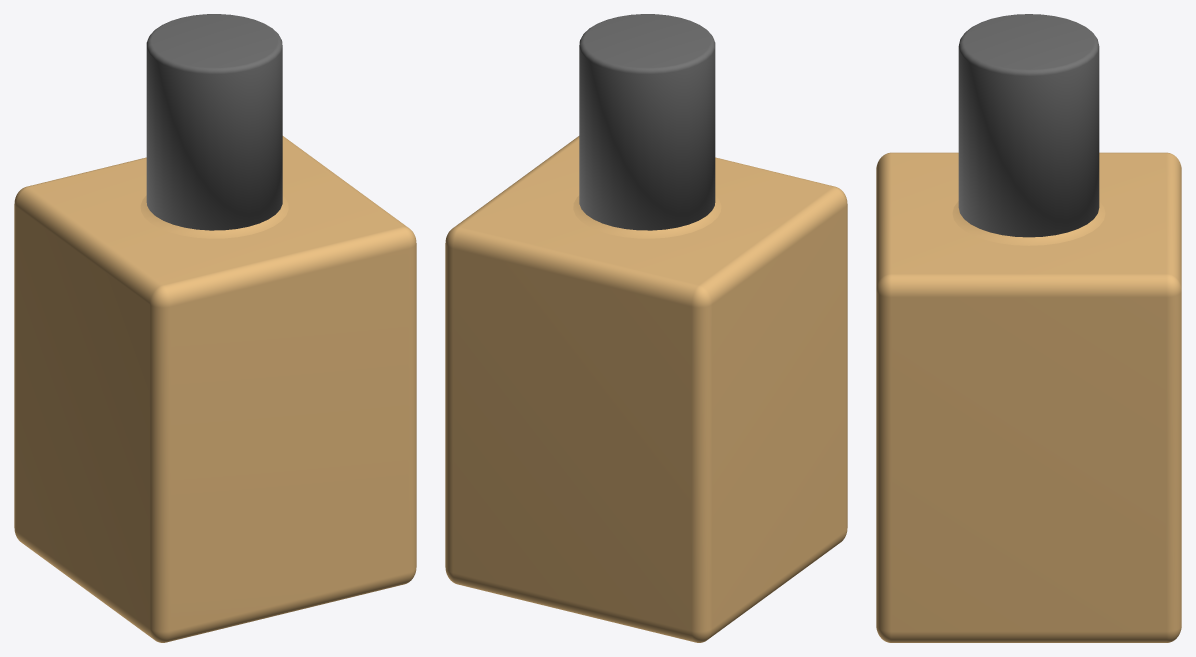
File: maquillaje_m4.glb
3 views of the same model, side by side, from view 1: azimuth 30°, elevation 25°; view 2: azimuth 150°, elevation 25°; view 3: azimuth 270°, elevation 25° (orthographic). The views are drawn at different scales.
Visible parts, largest first — view 1: Cylinder; view 2: Cylinder; view 3: Cylinder.
Part boxes in pixels (left/top/right/bottom): Cylinder: left=14, top=14, right=416, bottom=642; Cylinder: left=445, top=14, right=847, bottom=642; Cylinder: left=876, top=14, right=1181, bottom=642.
Size of the model in its own units: 1.27 by 2.39 by 1.23.
